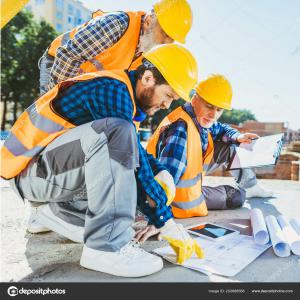yellow: (135, 43, 201, 115), (144, 1, 194, 49), (192, 74, 234, 131)
